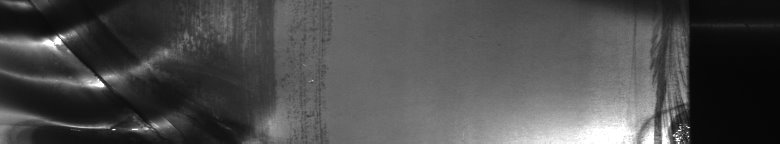ke: (4, 4, 206, 136)
